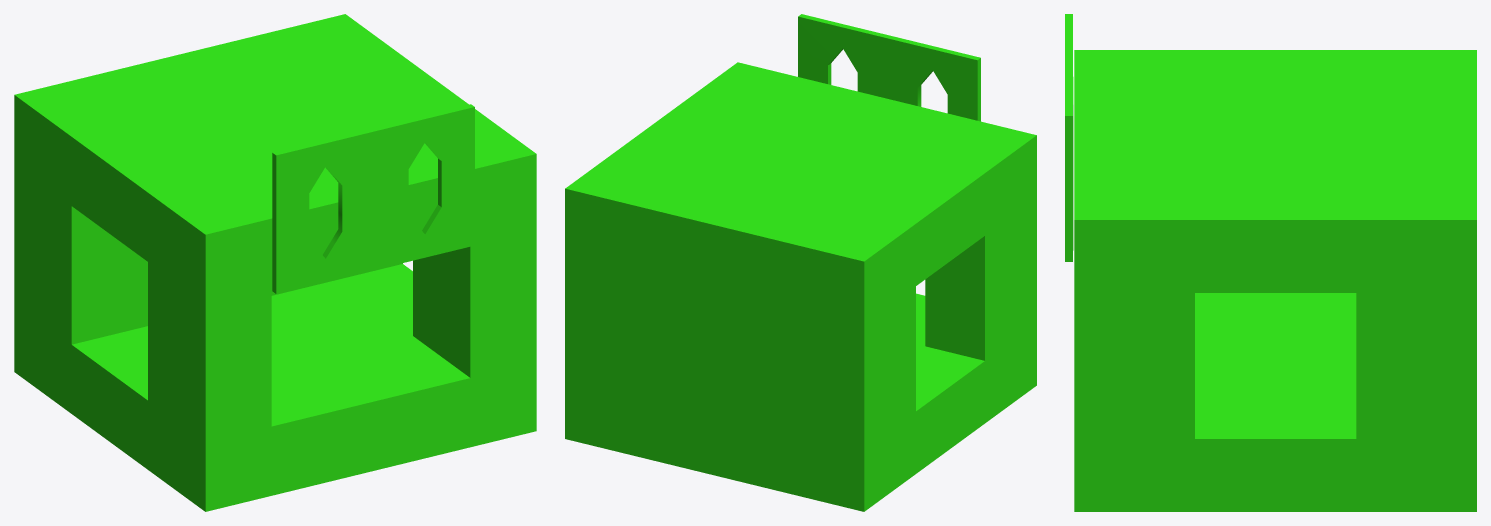
Rendered from Furnace_Placeholder.fbx.
3 views of the same model, side by side, from view 1: azimuth 30°, elevation 25°; view 2: azimuth 150°, elevation 25°; view 3: azimuth 270°, elevation 25° (orthographic). The views are drawn at different scales.
Parts seen in each view (by area): view 1: Furnace, Box001; view 2: Furnace, Box001; view 3: Furnace, Box001.
Boxes of the visible parts, x1=… form: Furnace: x1=14, y1=14, x2=536, y2=511; Box001: x1=272, y1=104, x2=474, y2=293; Furnace: x1=565, y1=62, x2=1036, y2=511; Box001: x1=798, y1=14, x2=980, y2=121; Furnace: x1=1074, y1=50, x2=1476, y2=511; Box001: x1=1065, y1=14, x2=1073, y2=261.
Bounding box in the file's own units: 39.37 × 39.04 × 40.28.
